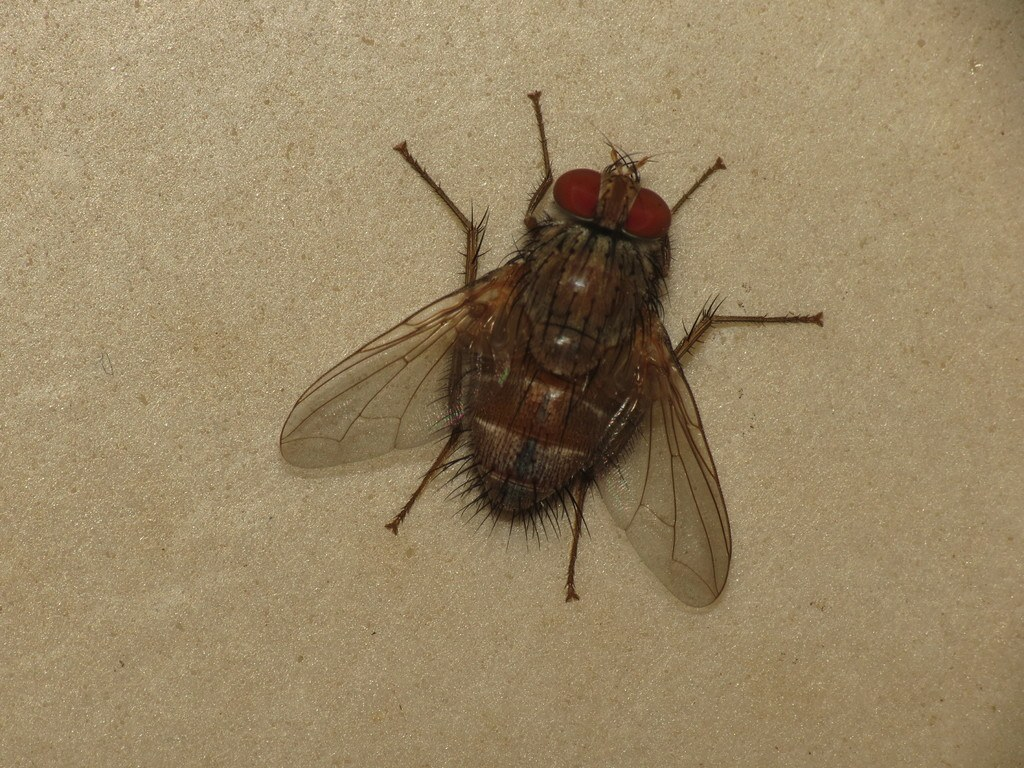insect: (280, 93, 826, 608)
